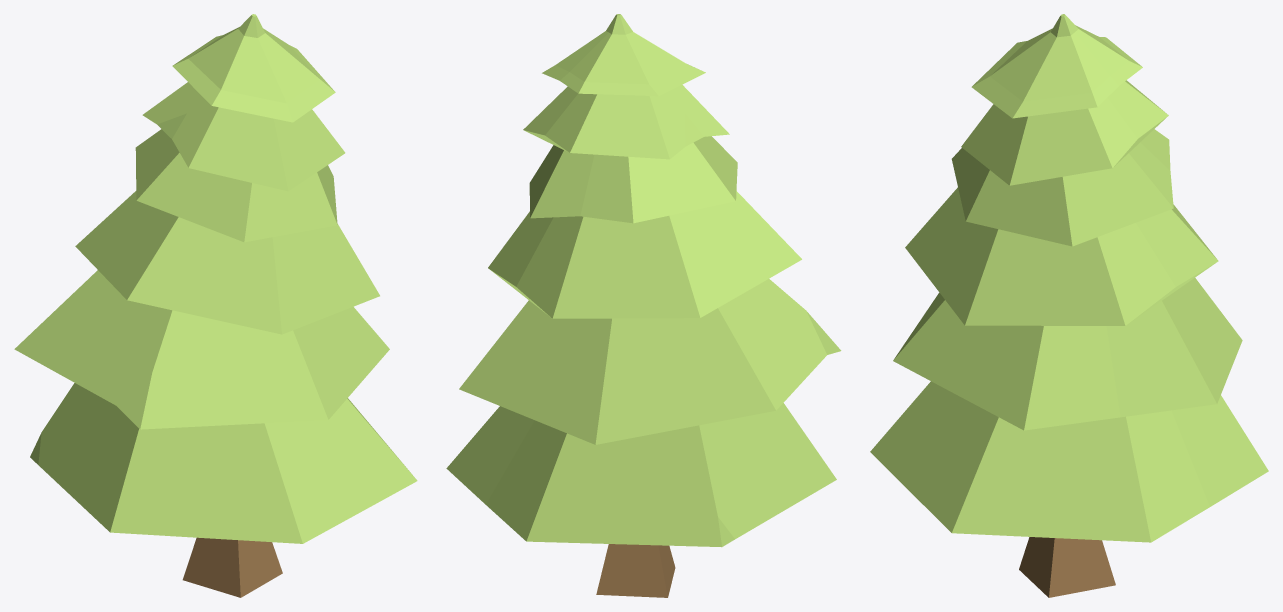
The model's file is Pine.fbx.
3 views of the same model, side by side, from view 1: azimuth 30°, elevation 25°; view 2: azimuth 150°, elevation 25°; view 3: azimuth 270°, elevation 25° (orthographic). The views are drawn at different scales.
Visible parts, largest first — view 1: Pine; view 2: Pine; view 3: Pine.
Boxes of the visible parts, <box> form: Pine: <box>14,14,417,597</box>; Pine: <box>446,14,841,597</box>; Pine: <box>870,14,1268,597</box>.
Size of the model in its own units: 449 by 732 by 463.
